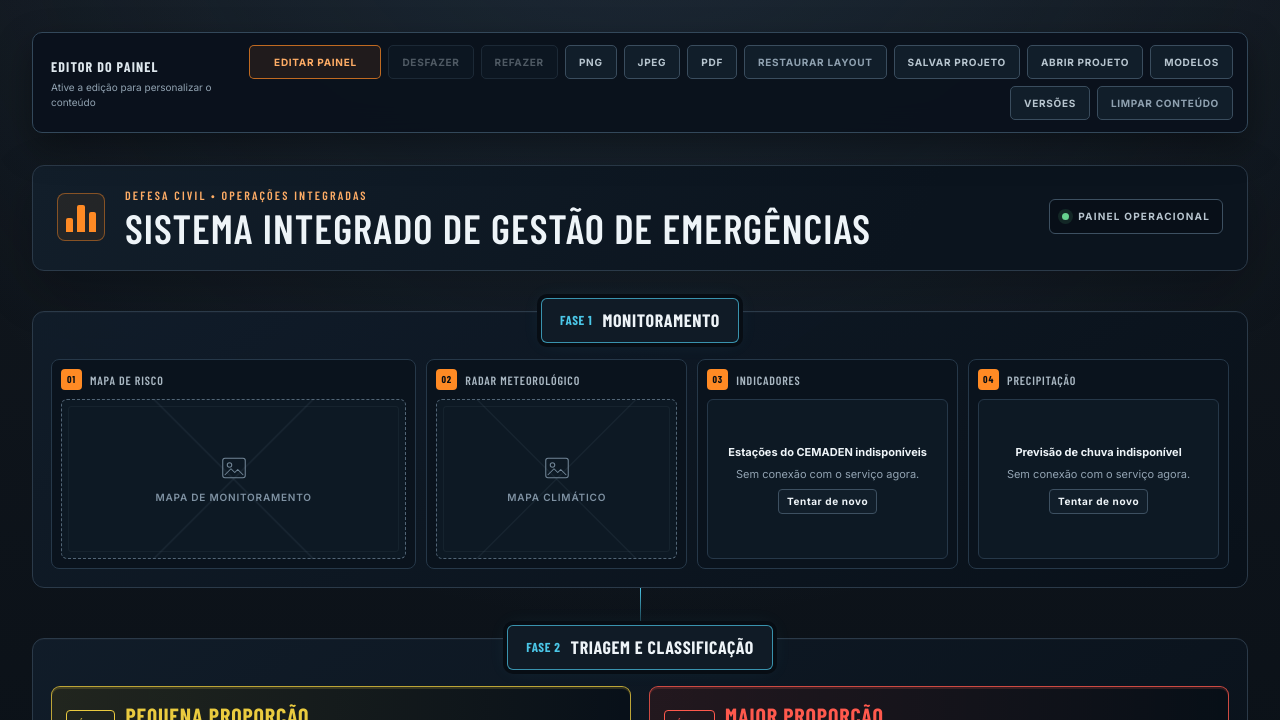
it: painel › alterna o modo de edição e mostra o painel de design
Click the button "EDITAR PAINEL".
click(316, 62)  # box 250,45 -> 382,79
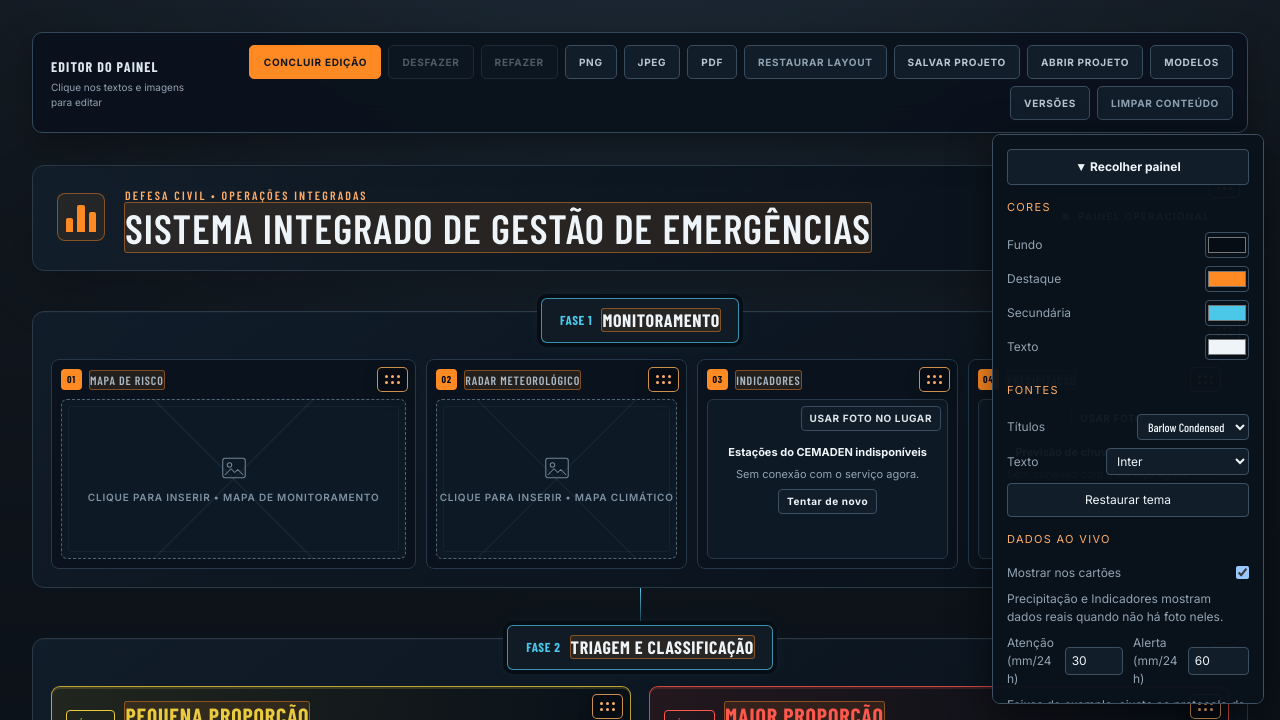
Expected: the element named "Cores, fontes e formas" is shown, 992,134 -> 1264,704
